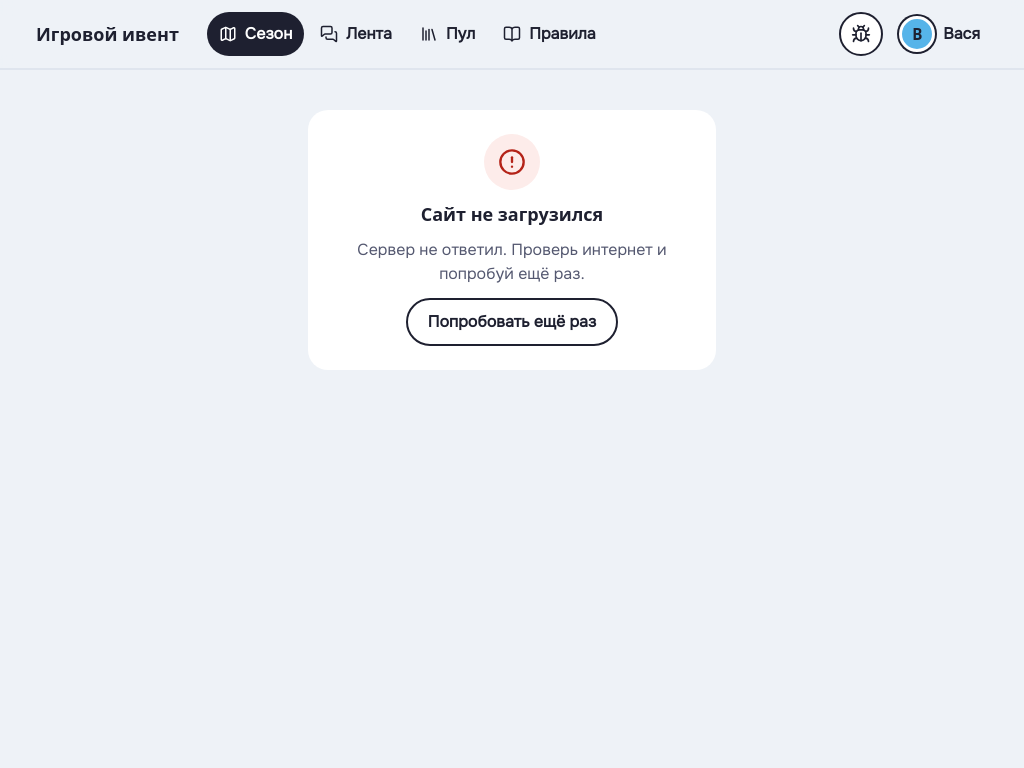
Scenario: the pages of the site › opens my profile from my menu
The width and height of the screenshot is (1024, 768).
Step 1. Click the button with test id "user-menu" → (944, 34), box left=895, top=12, right=992, bottom=56
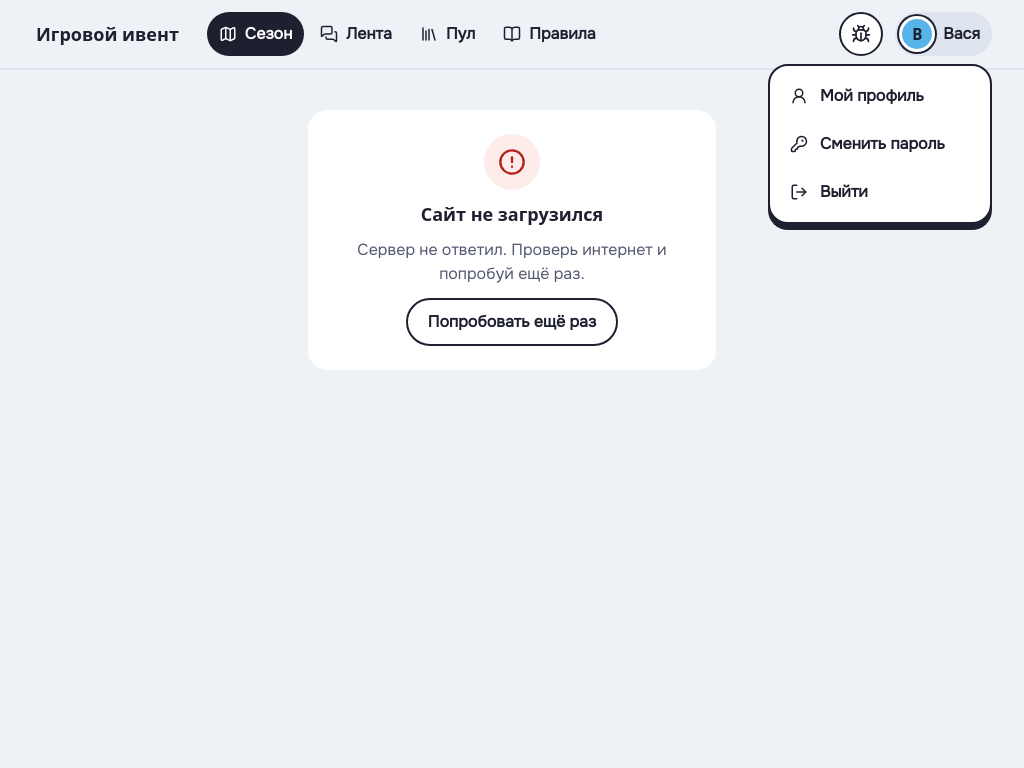
Step 2. Click the menu item with test id "my-profile" → (857, 96), box left=790, top=85, right=924, bottom=106
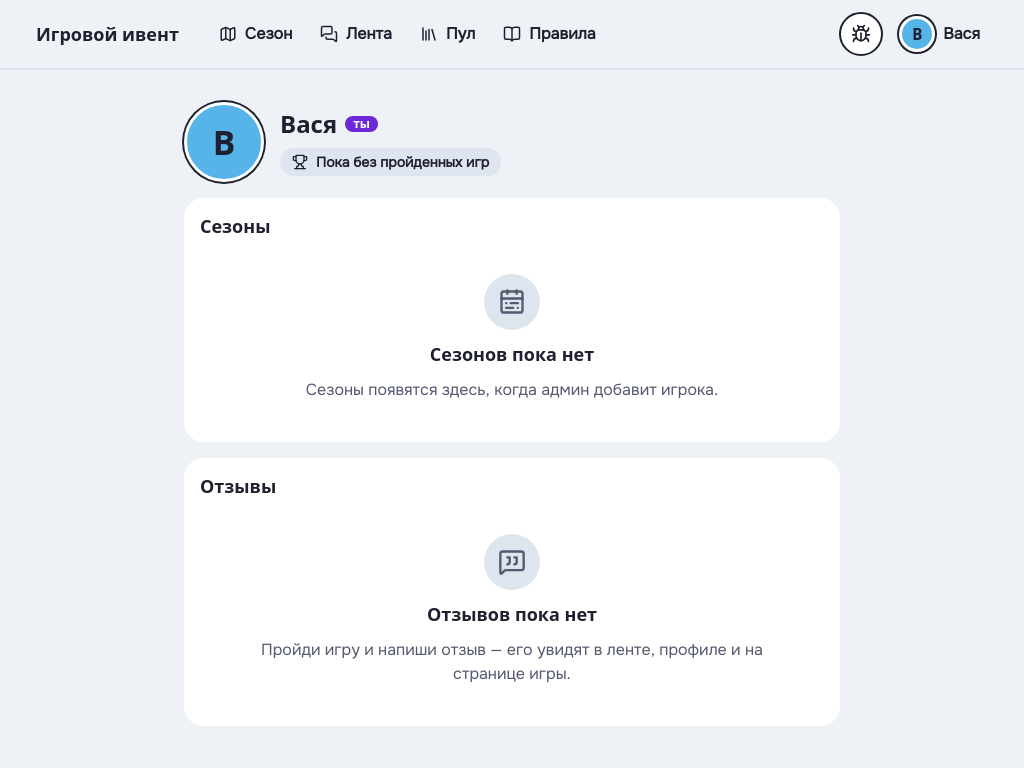
Now the heading "Вася ты" is shown, box left=280, top=108, right=378, bottom=140
Now the text "ты" is shown, box left=345, top=116, right=378, bottom=132
Now the element with test id "profile-completed" reads "Пока без пройденных игр", box left=316, top=152, right=489, bottom=170
